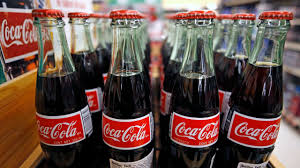coke-glass-bottle: (240, 8, 294, 166), (172, 9, 225, 167), (100, 10, 153, 166), (36, 1, 83, 163)
